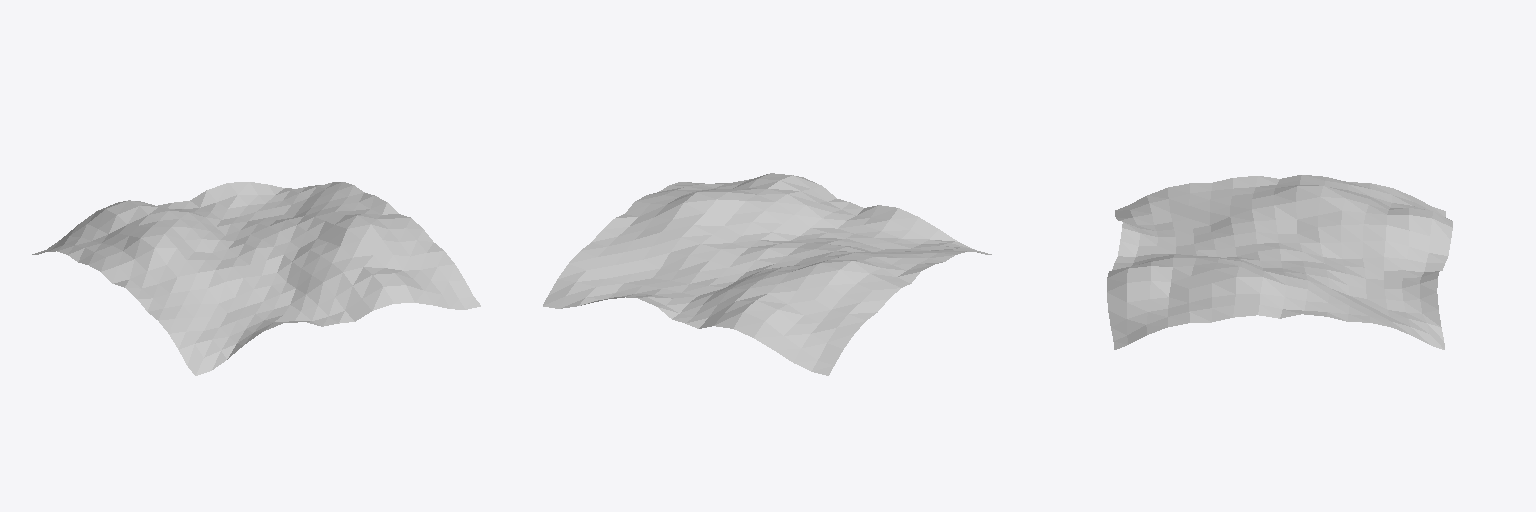
Rendered from water_000154.obj.
3 renders of one model, left to right at view 1: azimuth 30°, elevation 25°; view 2: azimuth 150°, elevation 25°; view 3: azimuth 270°, elevation 25°, orthographic.
Parts seen in each view (by area): view 1: Plan.003_Plan.001; view 2: Plan.003_Plan.001; view 3: Plan.003_Plan.001.
Part boxes in pixels (left/top/right/bottom): Plan.003_Plan.001: left=32, top=182, right=480, bottom=375; Plan.003_Plan.001: left=543, top=173, right=991, bottom=375; Plan.003_Plan.001: left=1107, top=175, right=1452, bottom=349.
Bounding box in the file's own units: 60781 × 9972 × 63283.